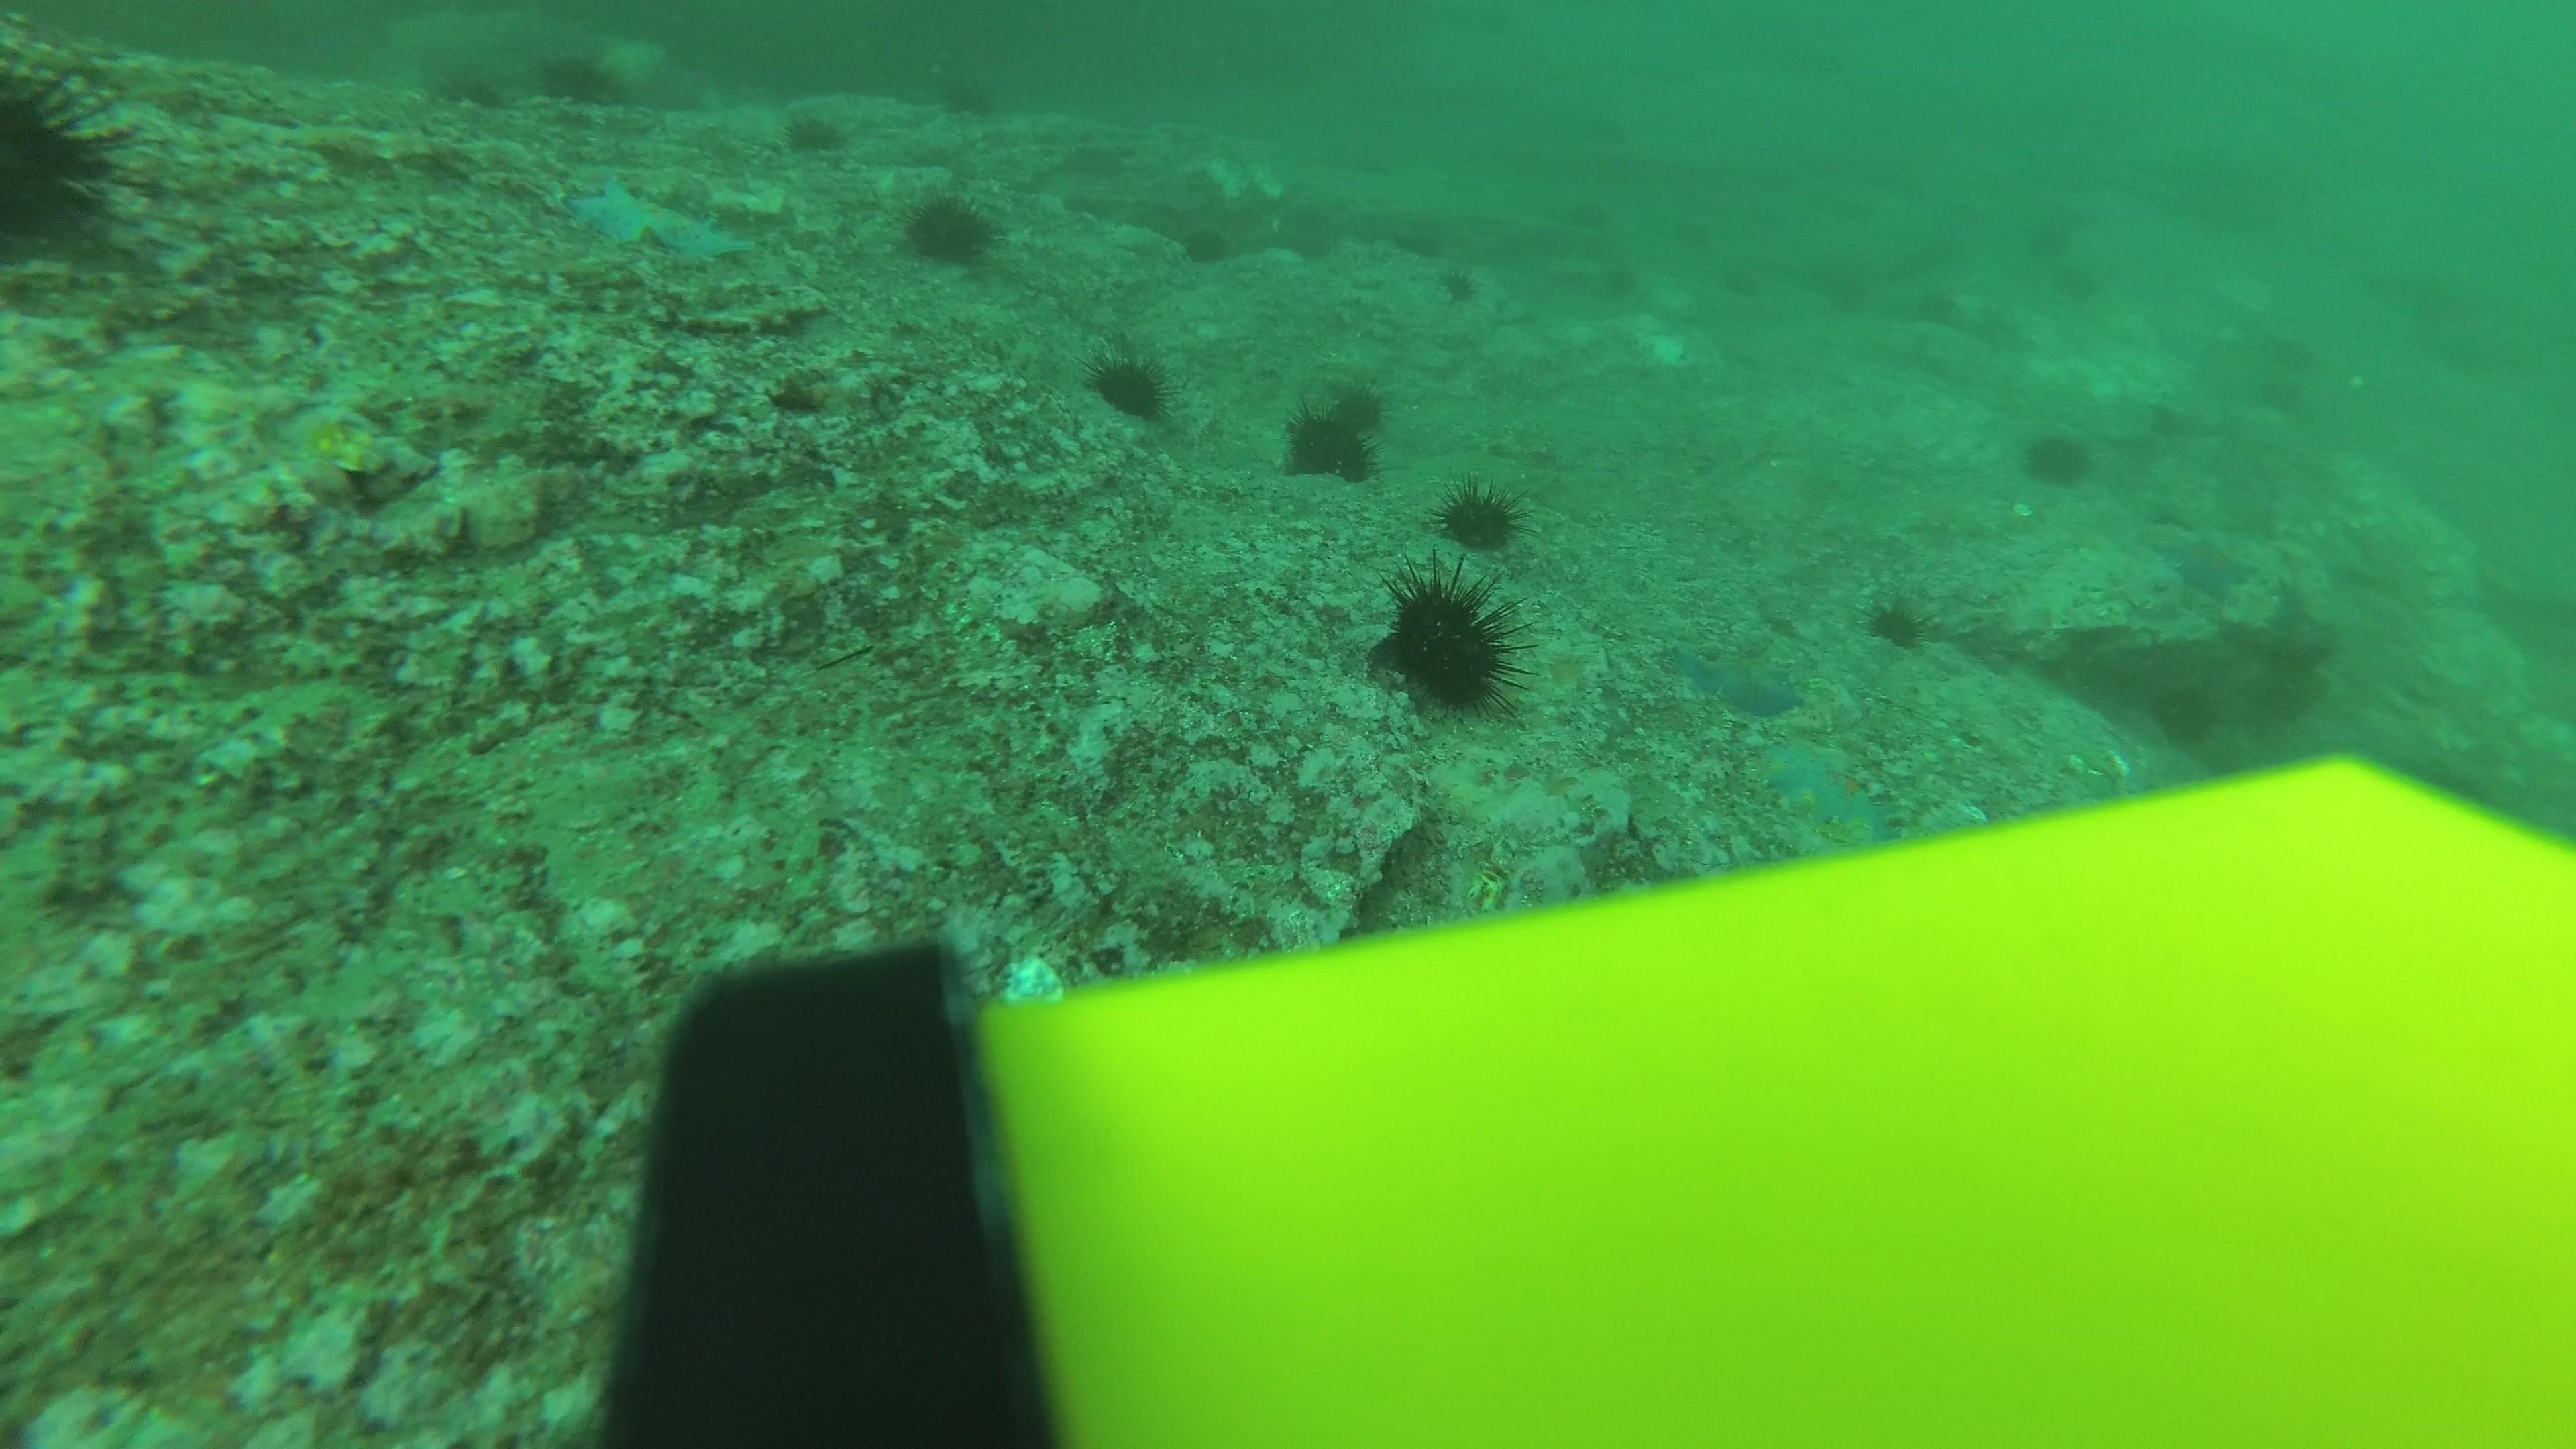echinus: (0, 58, 131, 267), (1373, 564, 1527, 718), (1281, 386, 1384, 485), (899, 186, 1000, 267), (1437, 476, 1523, 552), (1086, 345, 1171, 421), (2148, 676, 2224, 747), (2019, 423, 2095, 490), (536, 46, 616, 106), (1863, 589, 1932, 651), (780, 106, 846, 157), (934, 69, 1000, 120), (1177, 218, 1235, 267), (1435, 262, 1481, 308)
starfish: (559, 172, 752, 267), (1753, 738, 1905, 840), (1663, 639, 1810, 720), (2143, 522, 2259, 602)
